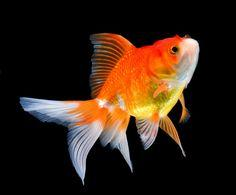goldfish: (78, 30, 209, 156)
